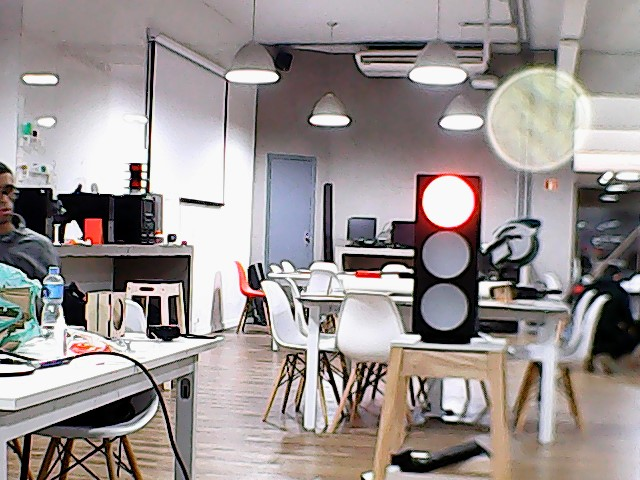vermelho: (410, 170, 482, 340)
